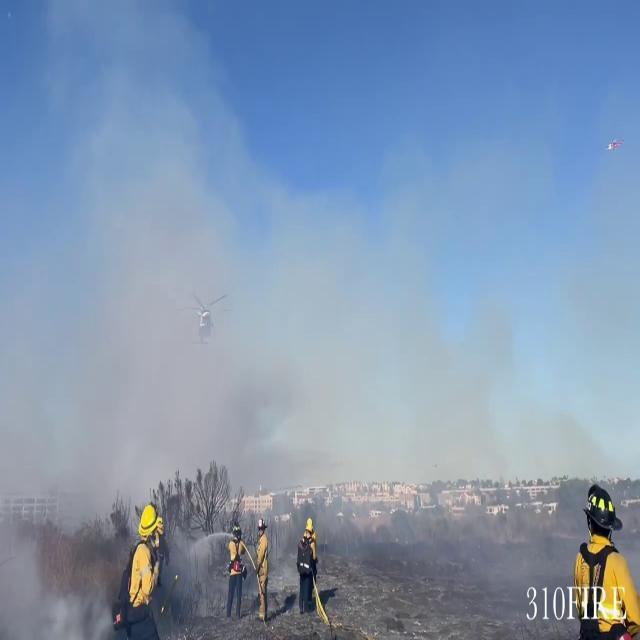Smoke: (0, 164, 462, 544)
